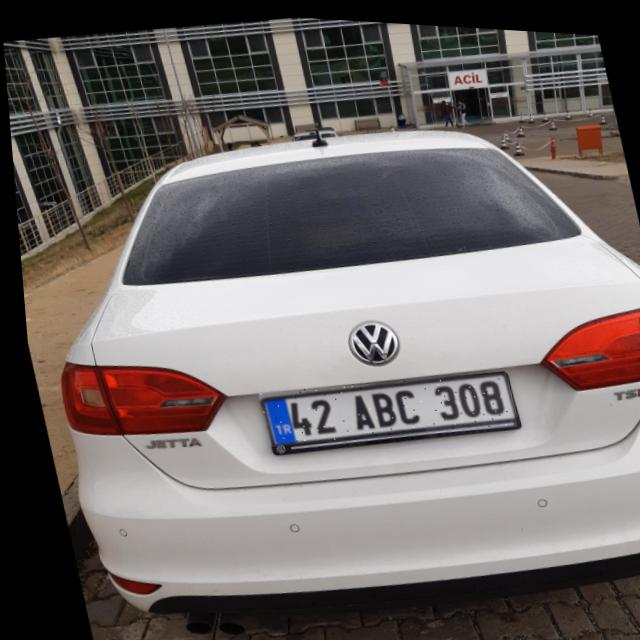license_plate: (250, 355, 513, 456)
